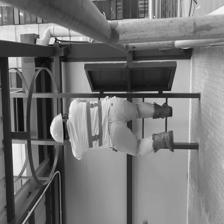Feet: (144, 86, 177, 122), (147, 131, 180, 152)
Hand: (63, 92, 91, 111)
Ladder: (4, 88, 203, 155)
